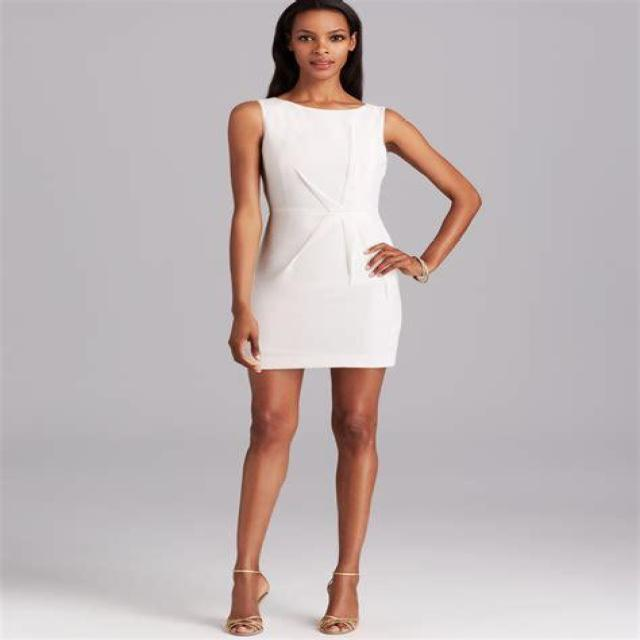dress: (244, 96, 405, 369)
